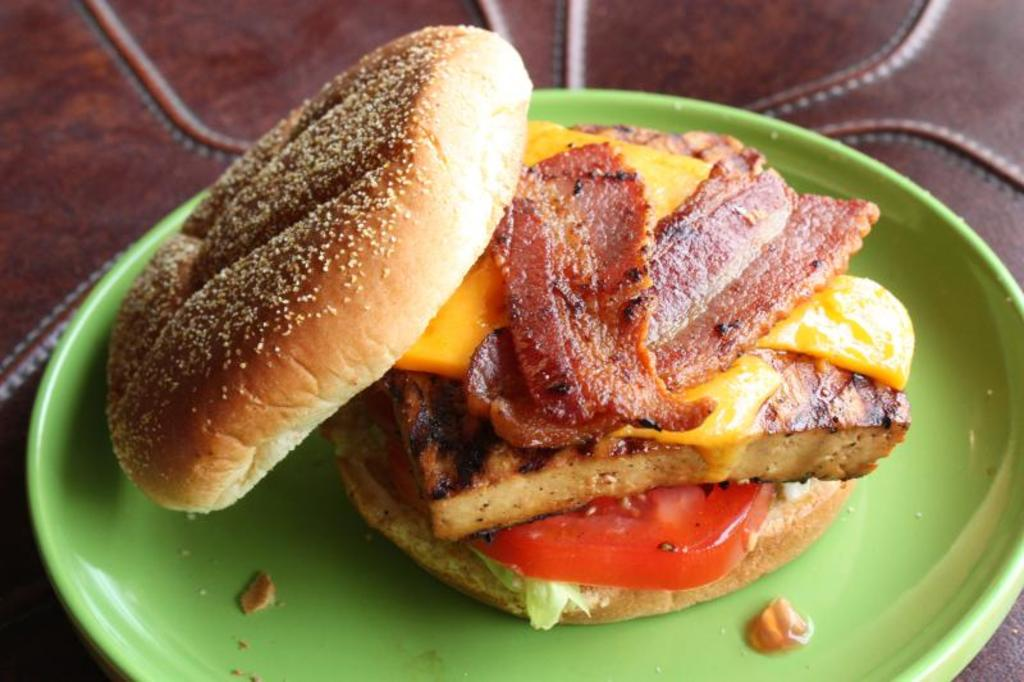Hamburger: (102, 25, 917, 633)
